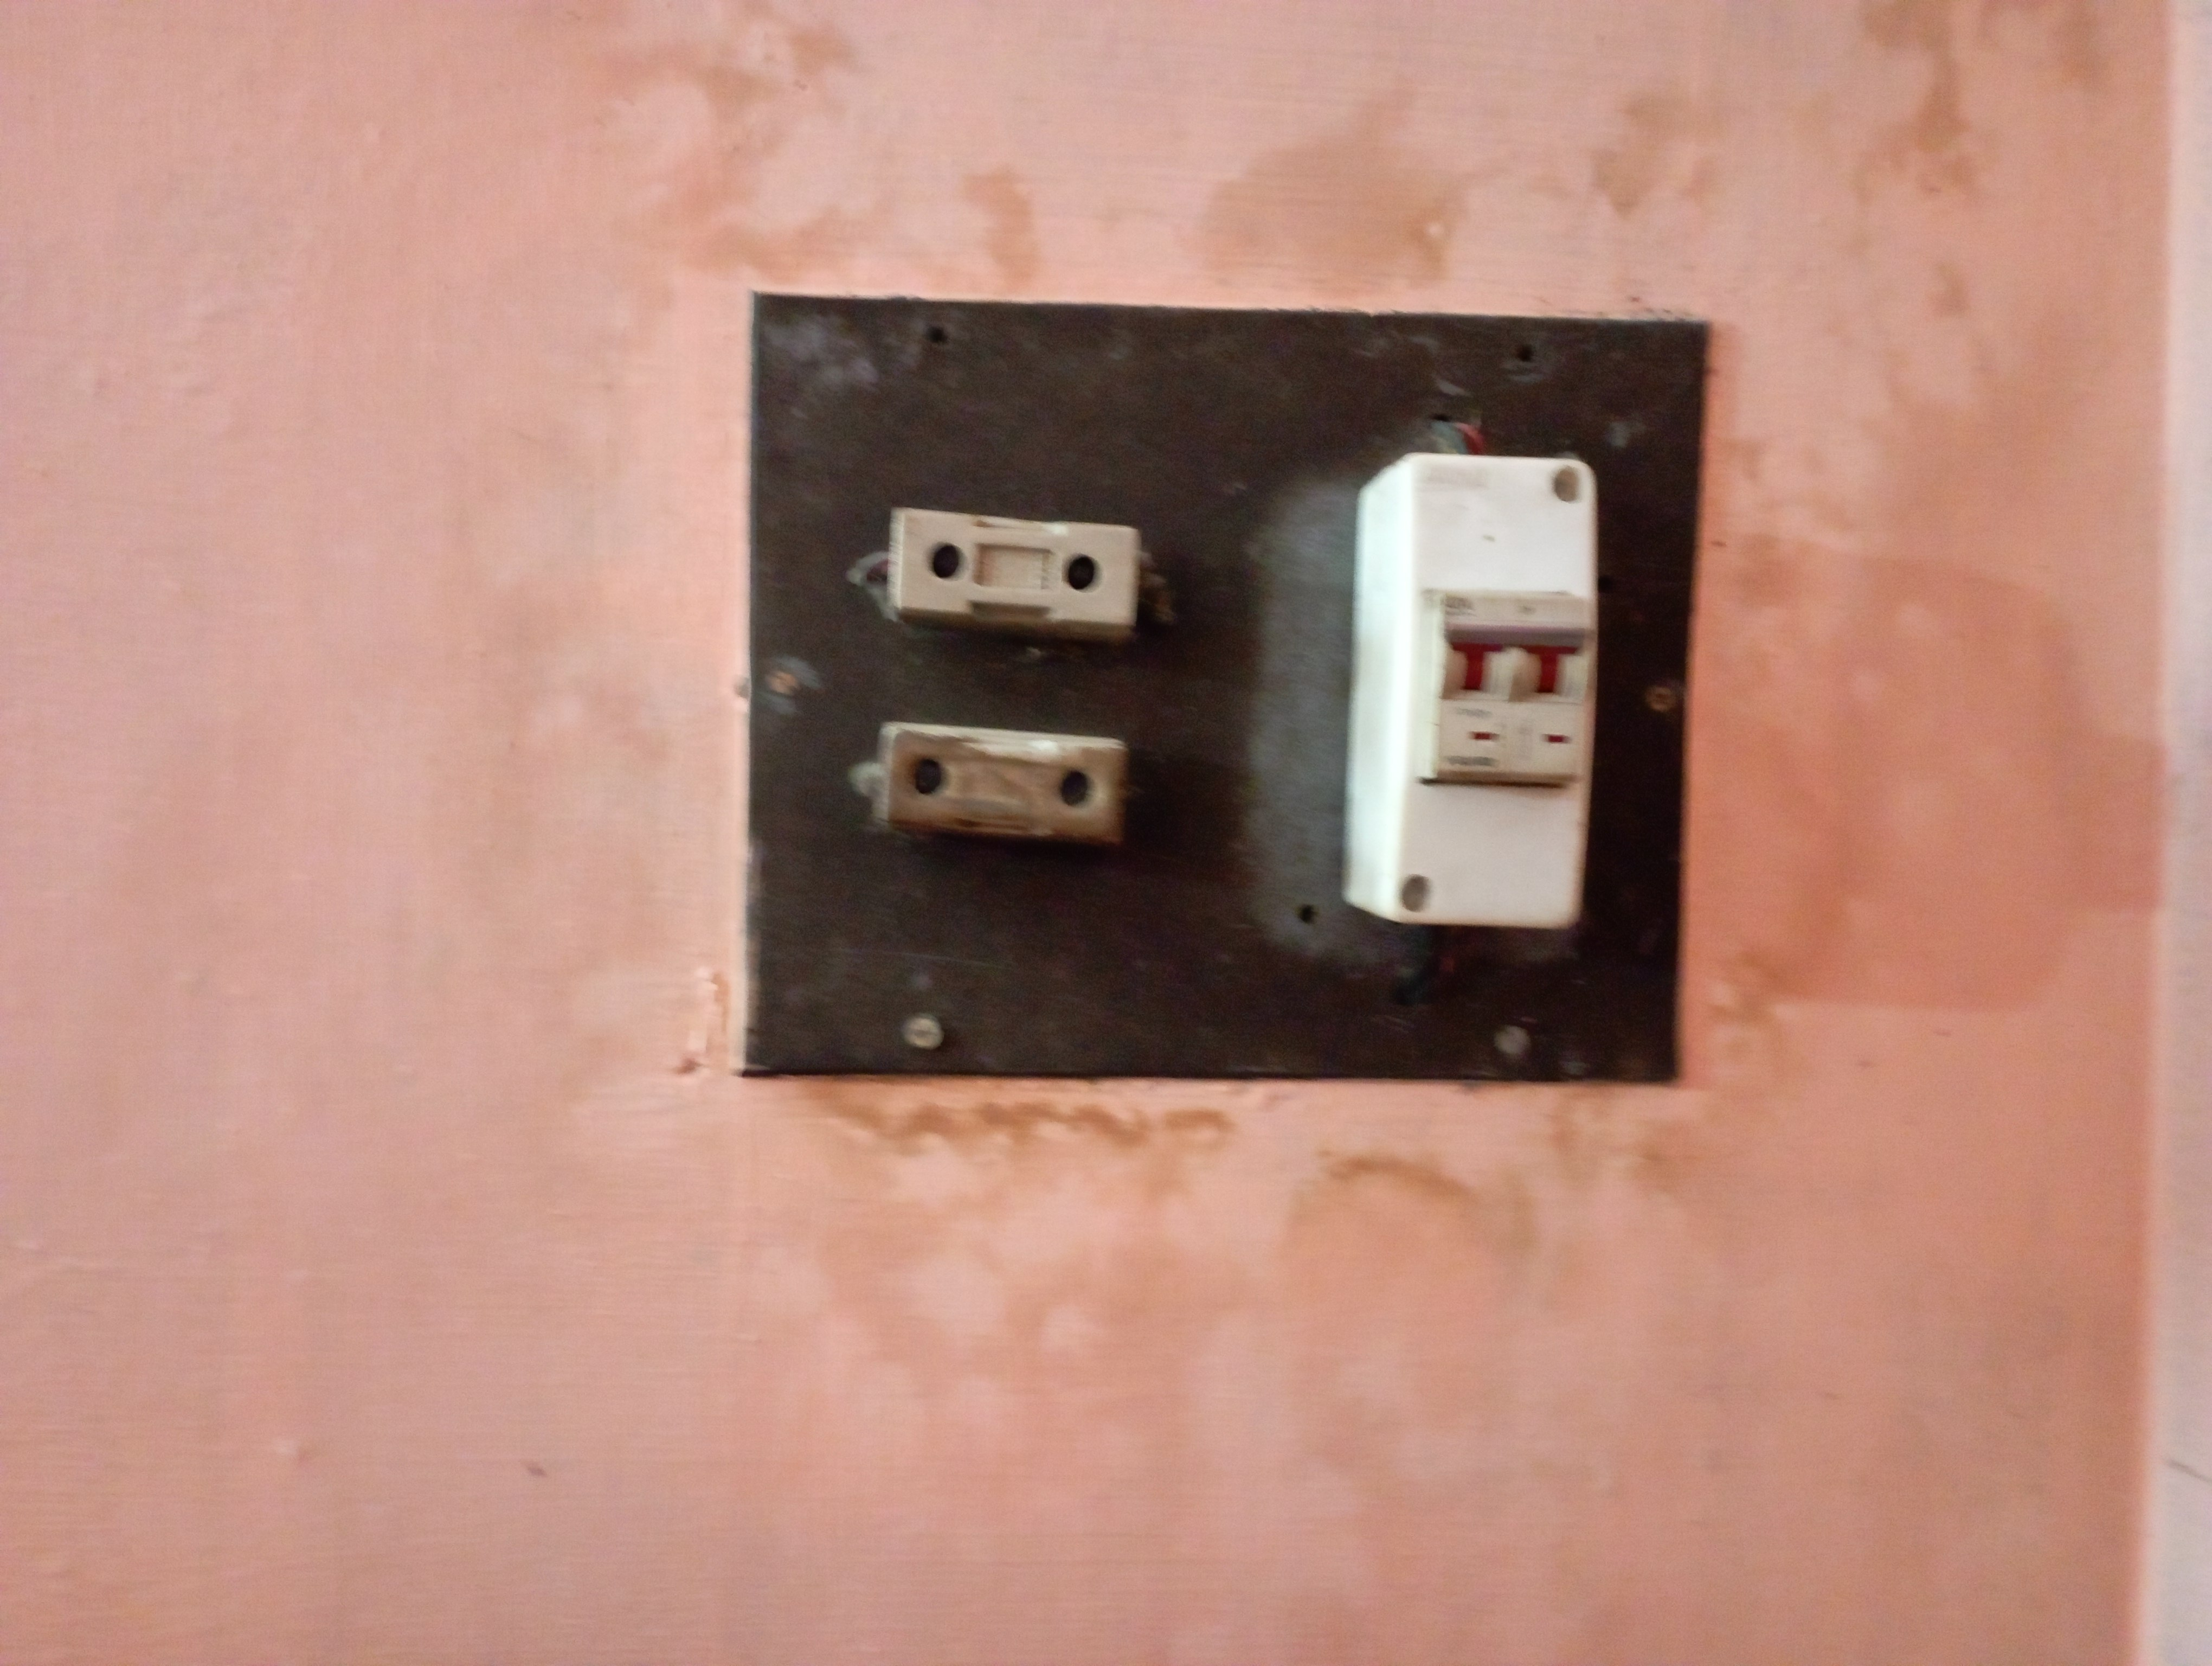ciruit_breaker: (1327, 455, 1603, 949)
fuse: (864, 485, 1166, 646), (864, 714, 1144, 852)
